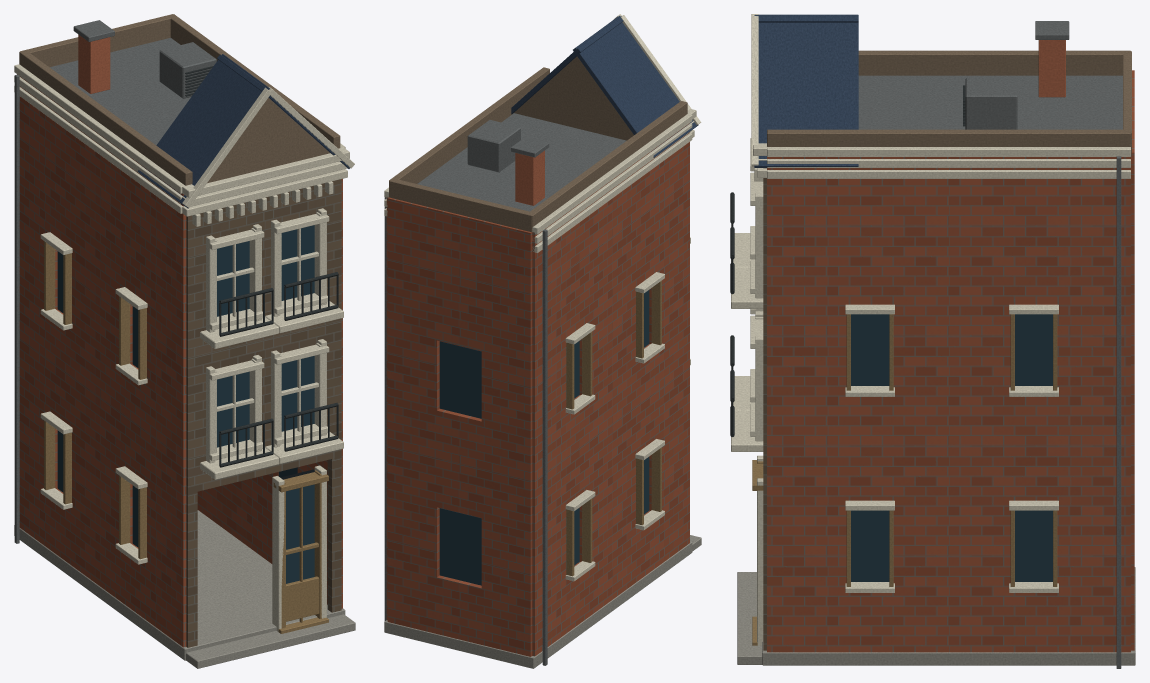
File: VICT29_lod1.glb
The picture shows the model from 3 angles, left to right: view 1: azimuth 30°, elevation 25°; view 2: azimuth 150°, elevation 25°; view 3: azimuth 270°, elevation 25°; orthographic projection. The views are drawn at different scales.
Visible parts, largest first — view 1: VICT29_LOD1; view 2: VICT29_LOD1; view 3: VICT29_LOD1.
Boxes of the visible parts, box(x1,y1,x2,y2) form: VICT29_LOD1: box(14, 14, 355, 668); VICT29_LOD1: box(384, 14, 701, 668); VICT29_LOD1: box(730, 14, 1135, 668).
Bounding box in the file's own units: 3.71 × 11.05 × 6.68.
12 materials, 10 textured.
